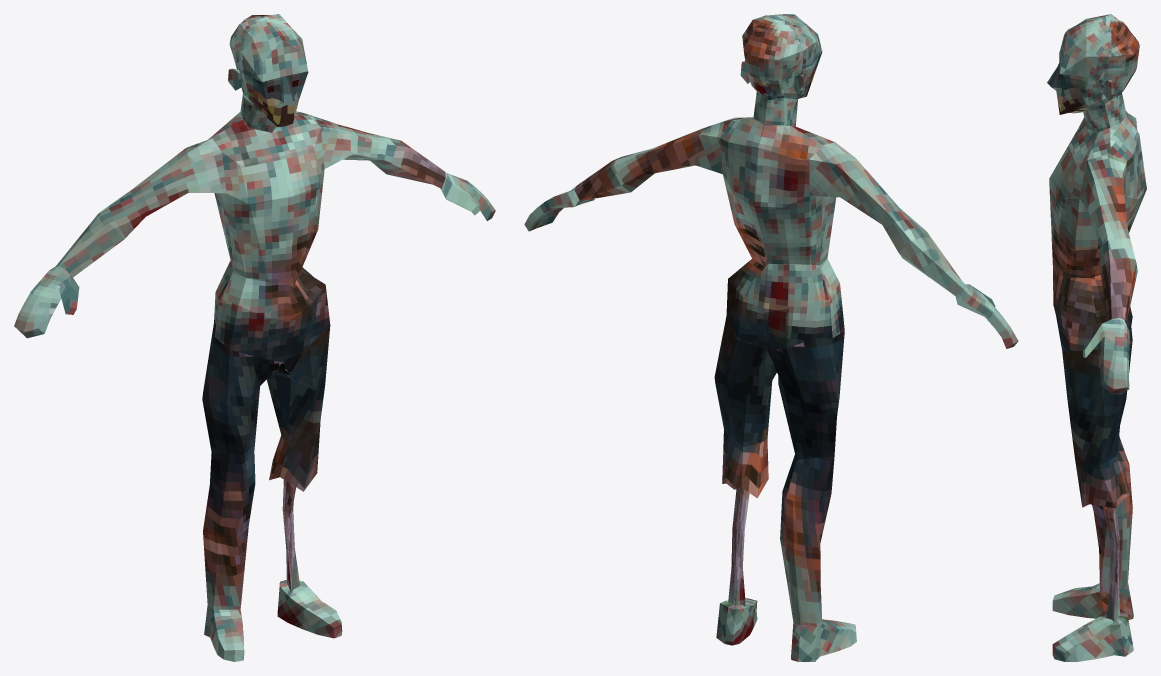
File: Zombie.fbx
3 views of the same model, side by side, from view 1: azimuth 30°, elevation 25°; view 2: azimuth 150°, elevation 25°; view 3: azimuth 270°, elevation 25° (orthographic).
Parts seen in each view (by area): view 1: Cube; view 2: Cube; view 3: Cube.
Boxes of the visible parts, x1,y1,x2,y2 form: Cube: [14, 14, 495, 661]; Cube: [524, 14, 1018, 661]; Cube: [1047, 14, 1146, 661].
Bounding box in the file's own units: 163 × 200 × 29.52.
1 material, 1 textured.
